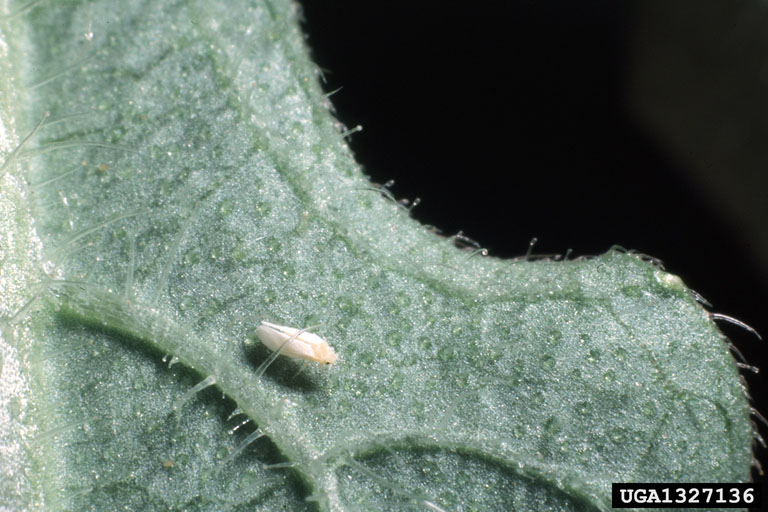Tobacco Whitefly: (228, 296, 342, 394)
